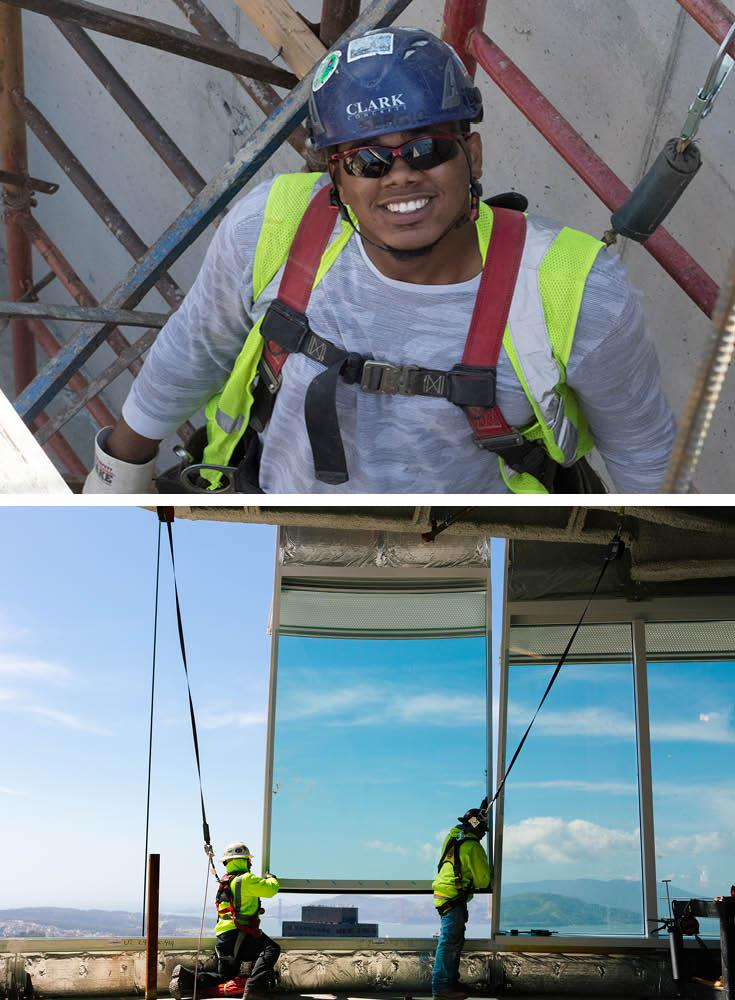helmet: (300, 28, 482, 152), (462, 805, 491, 841), (220, 840, 257, 868)
